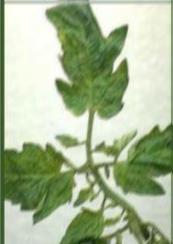Tomato leaf mosaic virus: (44, 5, 134, 121), (4, 140, 75, 221), (112, 116, 170, 199)
